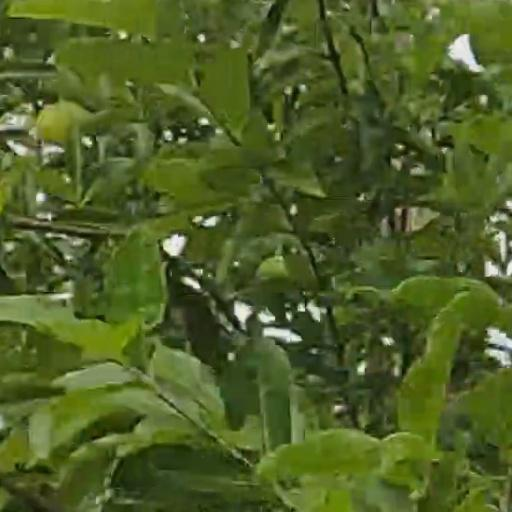acerola: (38, 104, 84, 139)
